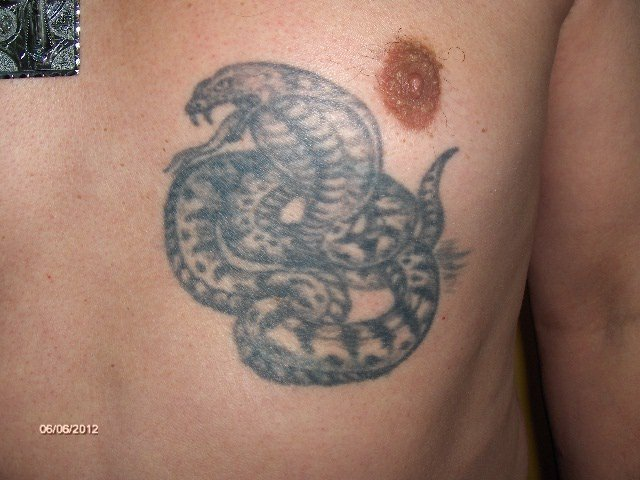tatu7_zmeya: (135, 40, 491, 386)
